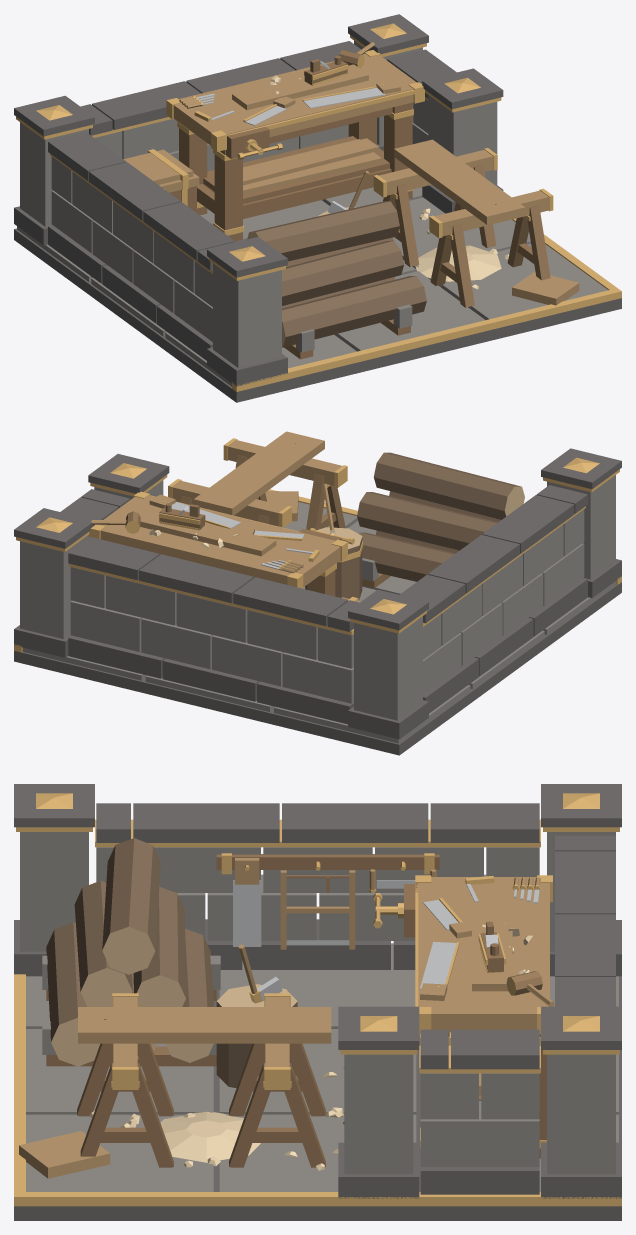
Rendered from carpenter-t2.glb.
3 renders of one model, top to bottom at view 1: azimuth 30°, elevation 25°; view 2: azimuth 150°, elevation 25°; view 3: azimuth 270°, elevation 25°, orthographic. The views are drawn at different scales.
Parts seen in each view (by area): view 1: floor, wall_left, log_stack, workbench_frame, pillar_front_left, wall_back, workbench_top, pillar_right_end, pillar_back_left, sawhorse_b, sawhorse_plank, shelf_boards (+12 smaller); view 2: wall_back, wall_left, log_stack, floor, pillar_back_left, workbench_top, pillar_back_right, pillar_front_left, sawhorse_plank, sawhorse_b, pillar_right_end, bench_plank (+10 smaller); view 3: floor, wall_left, log_stack, wall_right_stub, pillar_right_end, pillar_back_right, workbench_top, pillar_front_left, wall_back, sawhorse_plank, sawhorse_a, sawhorse_b (+16 smaller).
Boxes of the visible parts, x1,y1,x2,y2 form: floor: (14, 187, 621, 402); wall_left: (48, 132, 235, 360); log_stack: (247, 201, 426, 347); workbench_frame: (177, 102, 413, 241); pillar_front_left: (207, 237, 287, 386); wall_back: (80, 41, 363, 192); workbench_top: (166, 50, 424, 151); pillar_right_end: (422, 68, 503, 213); pillar_back_left: (14, 95, 94, 245); sawhorse_b: (429, 188, 553, 307); sawhorse_plank: (394, 139, 525, 224); shelf_boards: (243, 138, 381, 194); wall_back: (68, 537, 359, 724); wall_left: (399, 485, 587, 713); log_stack: (357, 452, 524, 581); floor: (14, 489, 621, 755); pillar_back_left: (348, 589, 428, 739); workbench_top: (89, 491, 347, 588); pillar_back_right: (14, 508, 94, 657); pillar_front_left: (541, 448, 621, 597); sawhorse_plank: (193, 431, 324, 515); sawhorse_b: (223, 438, 347, 530); pillar_right_end: (88, 454, 169, 499); bench_plank: (140, 510, 276, 556); floor: (14, 943, 621, 1220); wall_left: (95, 803, 540, 969); log_stack: (46, 838, 213, 1066); wall_right_stub: (419, 1029, 540, 1194); pillar_right_end: (338, 1006, 419, 1198); pillar_back_right: (541, 1006, 621, 1198); workbench_top: (415, 875, 552, 1034); pillar_front_left: (14, 784, 94, 976); wall_back: (555, 835, 615, 1006); sawhorse_plank: (78, 1007, 331, 1043); sawhorse_a: (229, 993, 325, 1167); sawhorse_b: (77, 993, 173, 1167).
Size of what is drawn, in the model's own units: 3 by 1.14 by 3.
